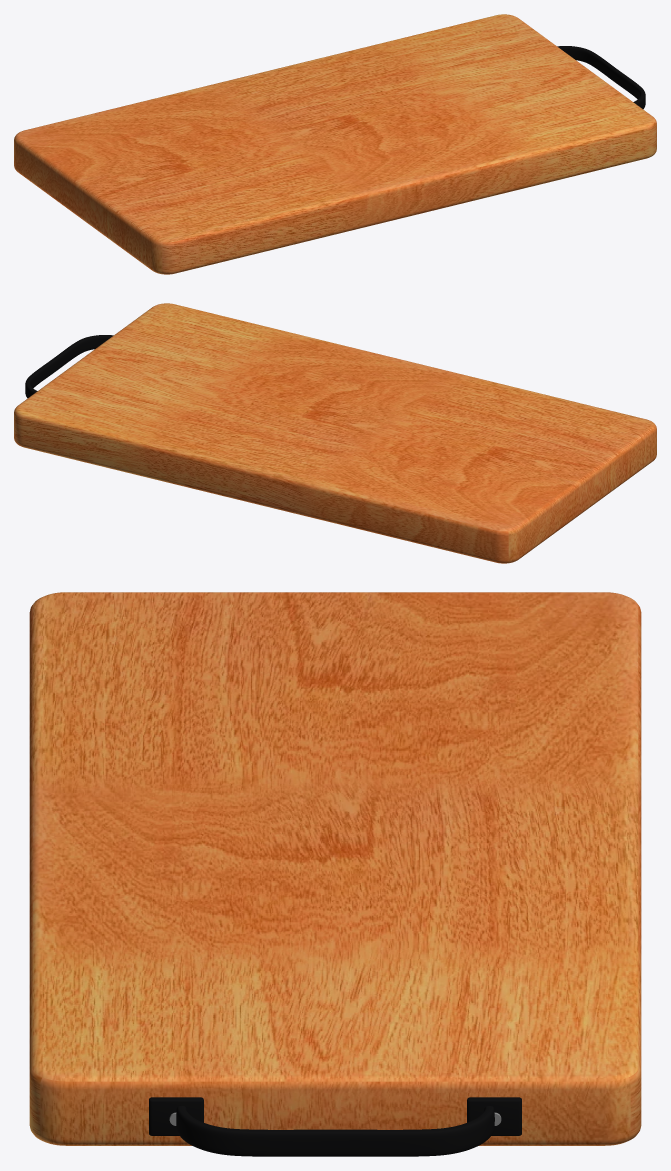
Rendered from chopping_board.glb.
3 views of the same model, one above another, from view 1: azimuth 30°, elevation 25°; view 2: azimuth 150°, elevation 25°; view 3: azimuth 270°, elevation 25° (orthographic). The views are drawn at different scales.
Parts seen in each view (by area): view 1: Wood Chop Mango Wood Chopping Board; view 2: Wood Chop Mango Wood Chopping Board; view 3: Wood Chop Mango Wood Chopping Board.
Part boxes in pixels (left/top/right/bottom): Wood Chop Mango Wood Chopping Board: left=14, top=14, right=656, bottom=274; Wood Chop Mango Wood Chopping Board: left=14, top=303, right=656, bottom=563; Wood Chop Mango Wood Chopping Board: left=29, top=592, right=641, bottom=1156.
Bounding box in the file's own units: 0.4039 × 0.025 × 0.2.
3 materials, 1 textured.
